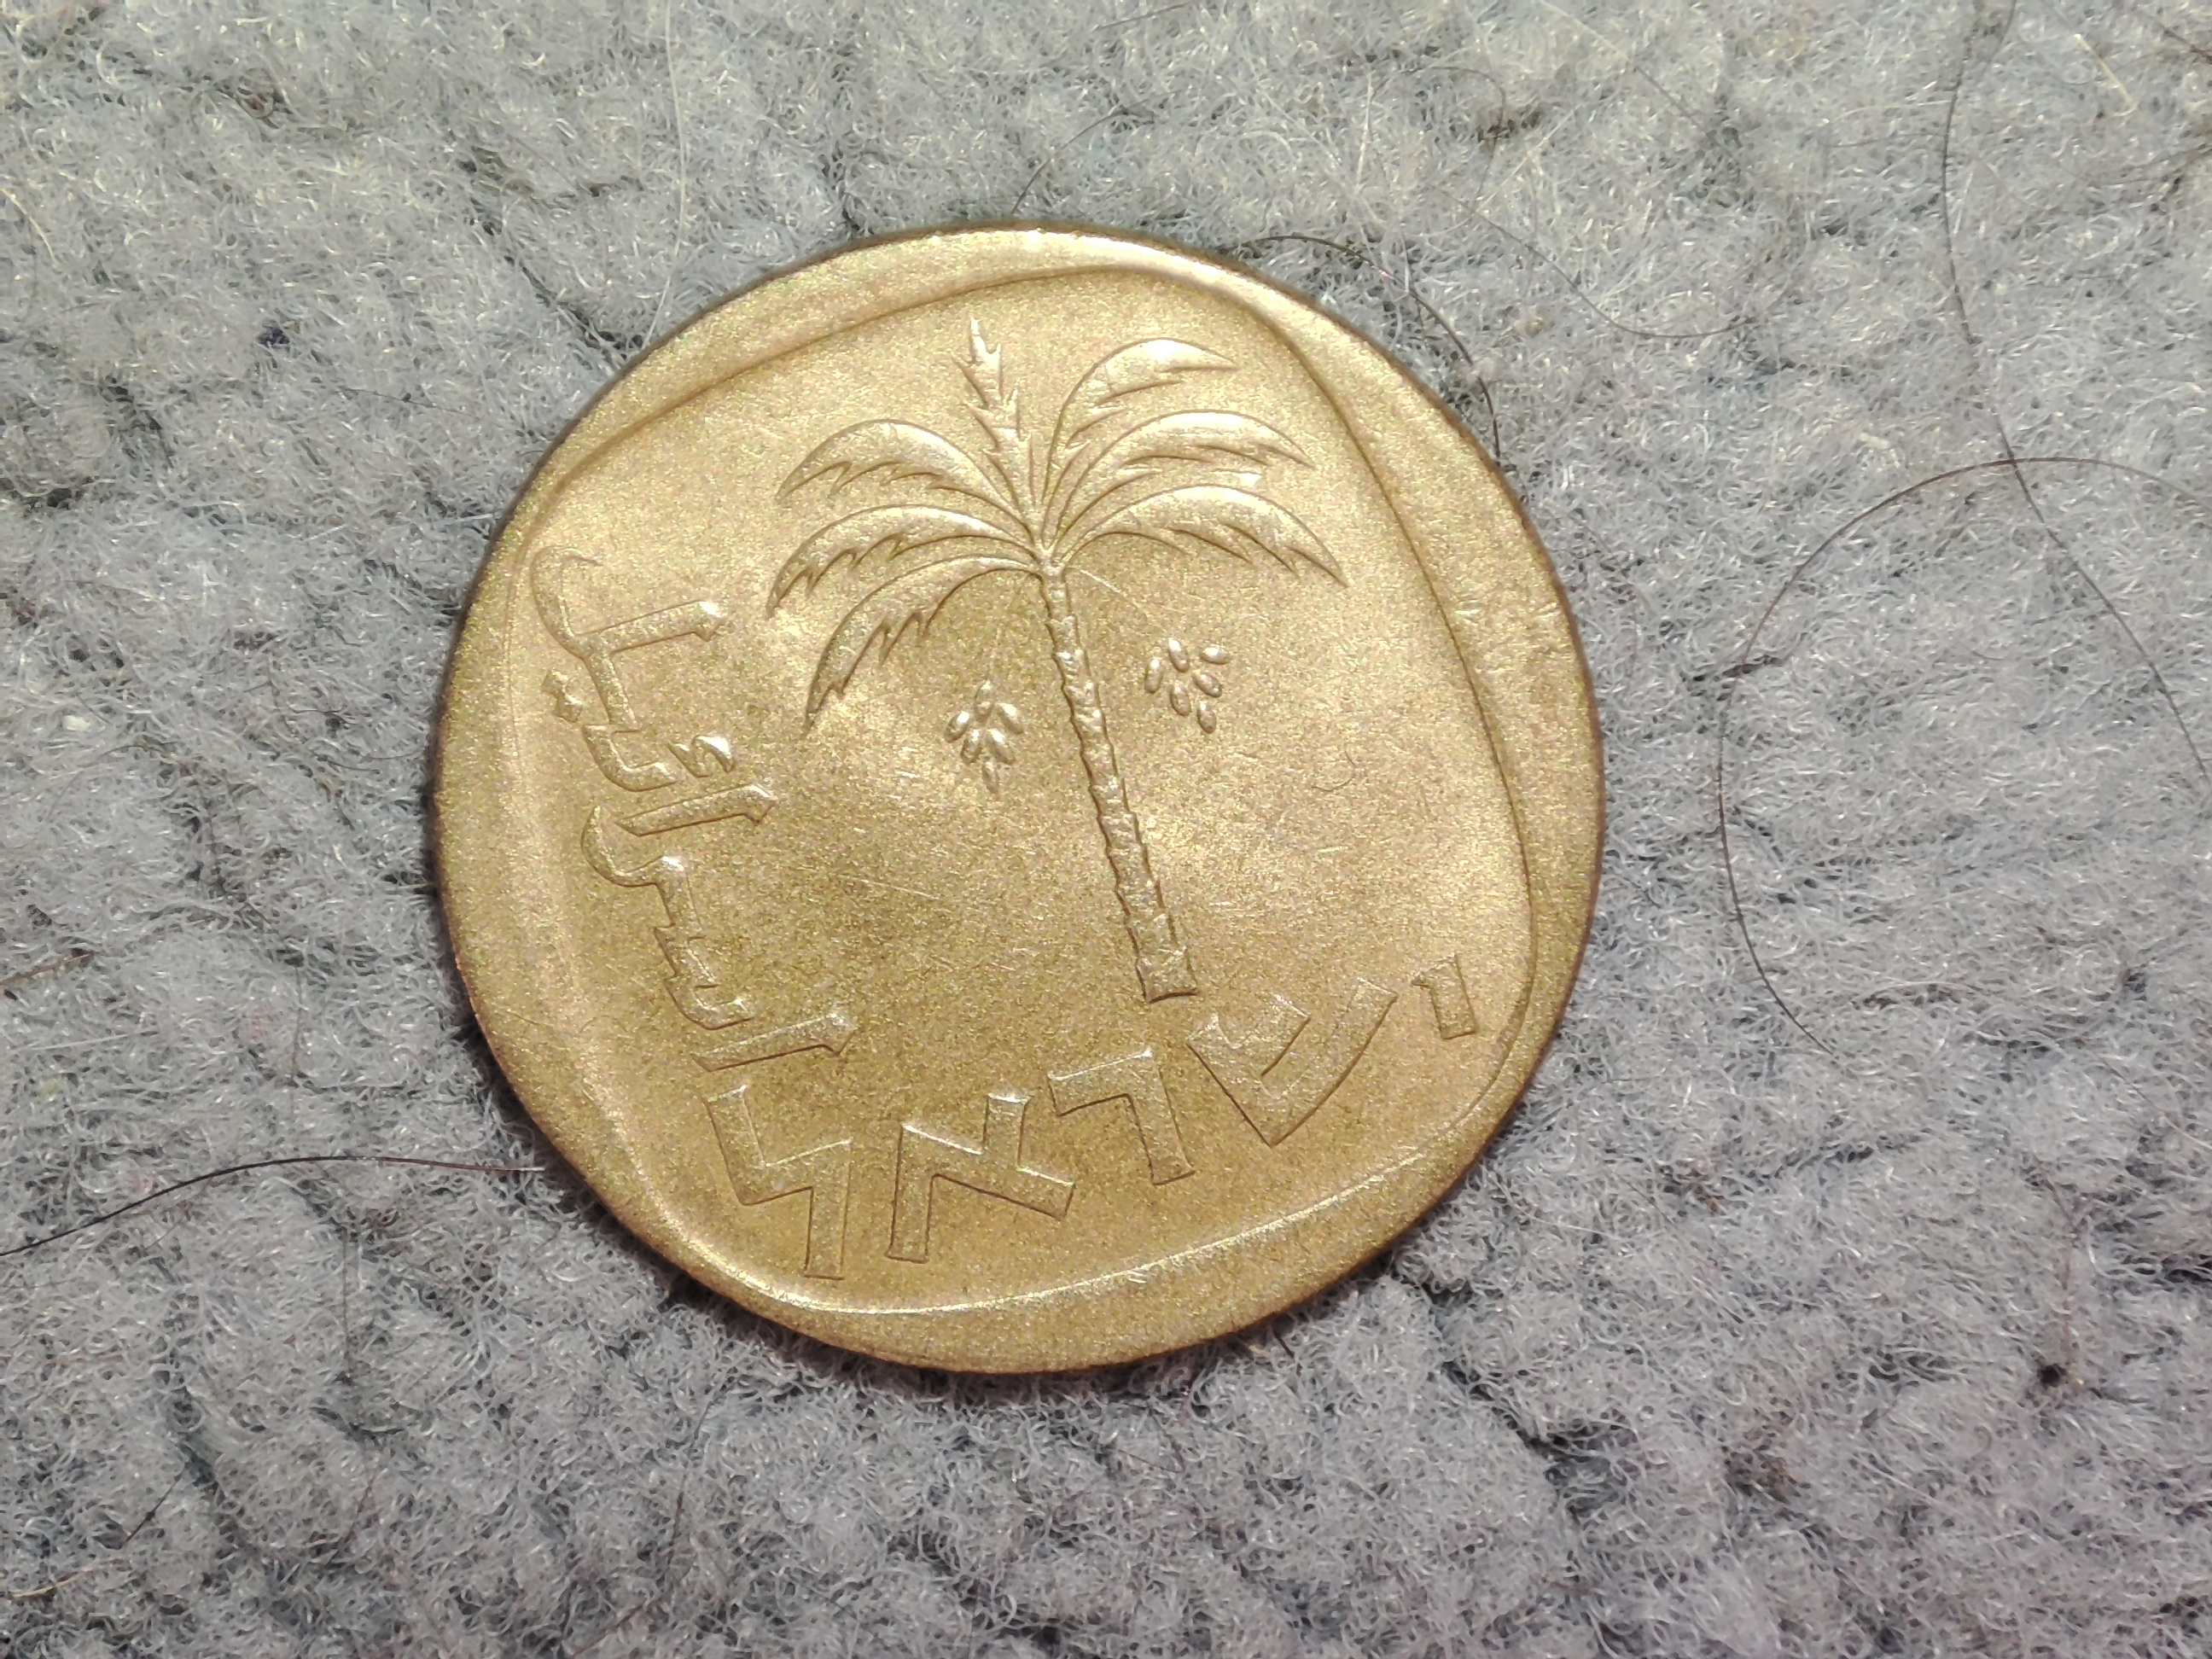10 old agora brown: (413, 211, 1616, 1385)
